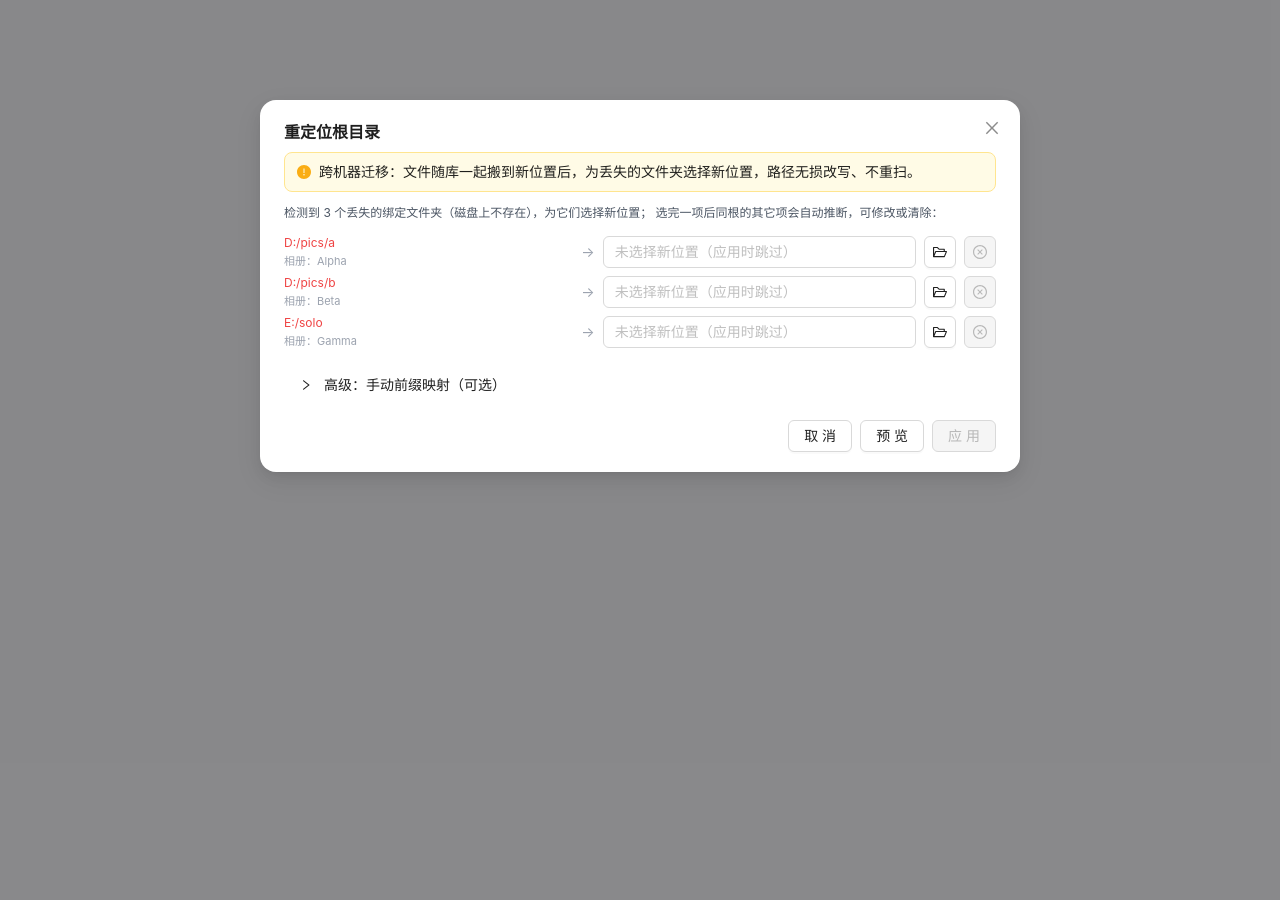
Test: RelocateRootModal › 丢失文件夹修复清单 › 选中 POSIX 绝对路径时推断保留前导 /
Expected: the text "检测到 3 个丢失的绑定文件夹（磁盘上不存在），为它们选择新位置； 选完一项后同根的其它项会自动推断，可修改或清除：" is shown, [284,204,996,223]
What coordinates should you click on to do the following:
click the button named "选择新位置" in the row of "Alpha"
I would click on:
 (940, 252)
Its box is [924,236,956,268].
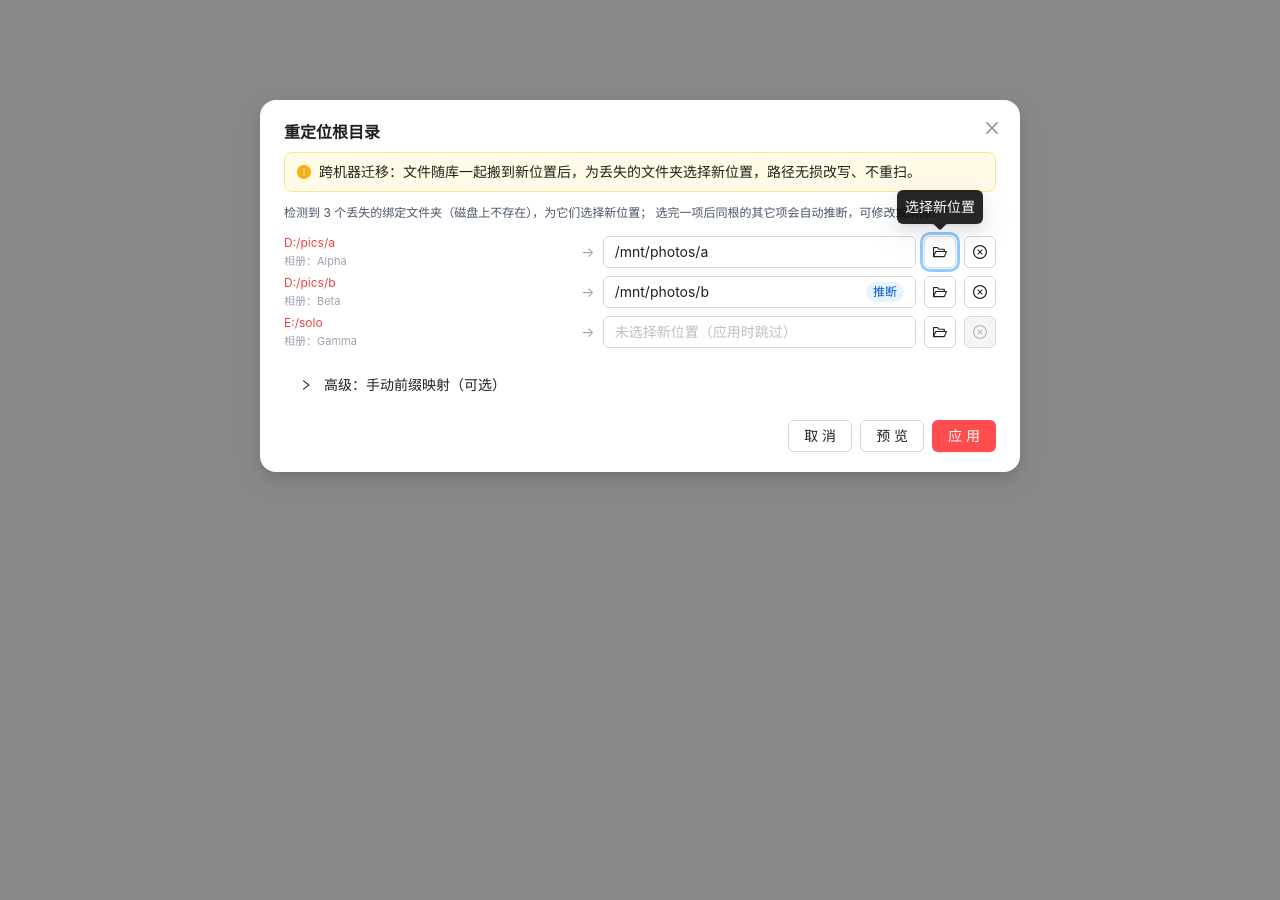
Expected: the field with placeholder "未选择新位置（应用时跳过）" in the row of "Alpha" holds "/mnt/photos/a", [603,236,916,268]
Expected: the field with placeholder "未选择新位置（应用时跳过）" in the row of "Beta" holds "/mnt/photos/b", [615,281,862,303]
